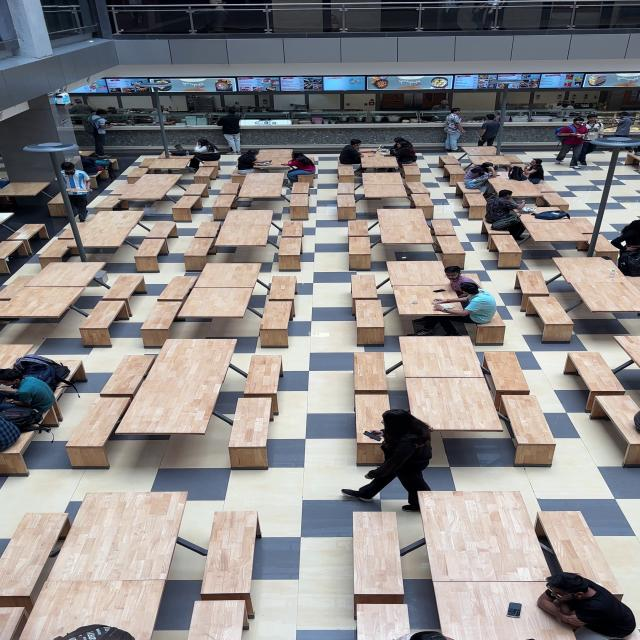Occupied: (490, 571, 637, 640), (0, 349, 62, 446), (424, 259, 501, 330), (466, 153, 548, 188), (37, 616, 152, 640), (342, 136, 420, 166), (489, 183, 531, 236), (238, 146, 318, 173), (169, 138, 222, 164), (77, 149, 122, 175), (618, 222, 640, 268), (542, 206, 578, 229)
Unoccupied: (61, 488, 181, 584), (415, 486, 546, 570), (350, 508, 407, 602), (555, 254, 640, 312), (0, 508, 56, 596), (4, 258, 89, 314), (414, 374, 499, 428), (205, 508, 251, 598), (544, 510, 608, 570), (192, 261, 254, 318), (495, 392, 557, 448), (57, 583, 165, 615), (398, 334, 478, 376), (72, 391, 126, 445), (223, 396, 276, 449), (569, 350, 624, 394), (191, 599, 245, 638), (348, 346, 394, 391), (89, 208, 136, 252), (380, 206, 432, 243), (356, 605, 410, 640), (486, 350, 530, 391), (224, 207, 270, 246), (103, 354, 145, 395), (246, 352, 281, 395), (357, 168, 406, 198), (535, 295, 576, 327), (0, 222, 38, 256), (144, 299, 181, 332), (119, 175, 174, 197), (84, 296, 120, 329), (240, 173, 287, 197), (354, 297, 386, 331), (536, 228, 592, 246), (0, 177, 48, 196), (358, 393, 382, 430), (102, 274, 142, 296), (517, 266, 547, 295), (351, 268, 379, 298), (264, 299, 291, 330), (159, 272, 191, 298), (616, 331, 640, 364), (212, 178, 240, 206), (40, 232, 69, 258), (489, 232, 520, 256), (267, 272, 295, 298), (602, 395, 635, 417), (0, 602, 21, 636), (135, 234, 162, 260), (147, 216, 178, 238), (540, 188, 572, 208), (442, 148, 463, 178), (431, 217, 457, 238), (184, 238, 211, 258), (92, 192, 121, 210), (191, 160, 218, 179), (349, 238, 376, 256), (278, 238, 304, 256), (132, 153, 154, 173), (348, 216, 368, 238), (199, 217, 218, 240), (439, 238, 464, 255), (168, 197, 196, 212), (180, 181, 206, 197), (280, 221, 307, 236), (408, 178, 430, 196), (470, 142, 497, 156), (572, 215, 597, 230), (294, 180, 316, 196), (597, 236, 616, 254), (338, 196, 359, 210), (286, 195, 310, 207), (410, 196, 434, 208), (158, 157, 178, 170), (336, 181, 353, 194)
